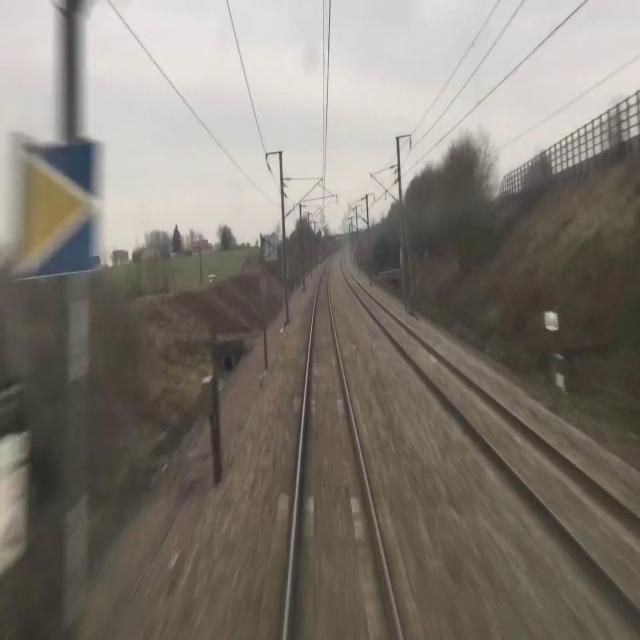rail-track: (341, 254, 640, 610), (287, 255, 399, 639)
